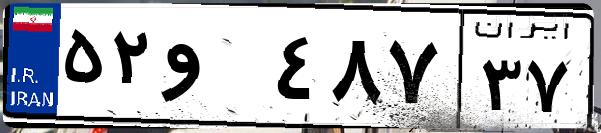2: (110, 28, 158, 98)
3: (475, 38, 525, 113)
4: (270, 28, 330, 110)
5: (57, 26, 110, 100)
7: (385, 28, 445, 110), (525, 38, 570, 115)
8: (330, 28, 385, 110)
و: (158, 20, 270, 120)
